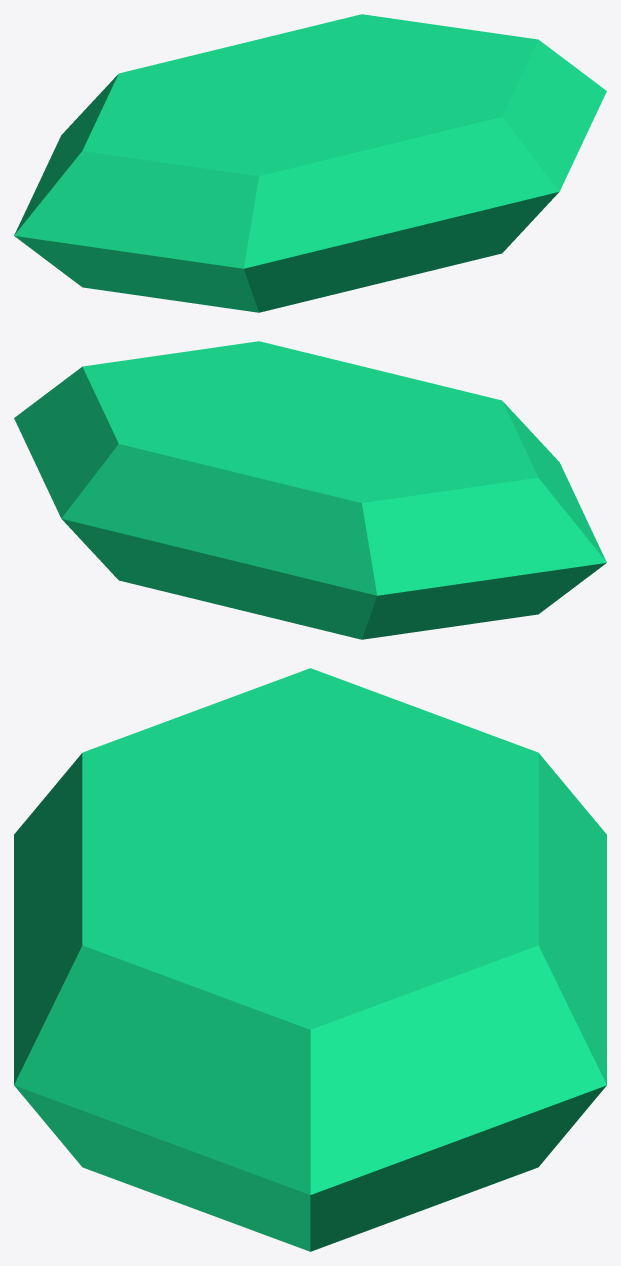
The model's file is Gem1.fbx.
The picture shows the model from 3 angles, top to bottom: view 1: azimuth 30°, elevation 25°; view 2: azimuth 150°, elevation 25°; view 3: azimuth 270°, elevation 25°; orthographic projection. The views are drawn at different scales.
Visible parts, largest first — view 1: Cube; view 2: Cube; view 3: Cube.
Boxes of the visible parts, bbox=[...] form: Cube: bbox=[14, 14, 606, 312]; Cube: bbox=[14, 341, 606, 639]; Cube: bbox=[14, 668, 606, 1251].
Bounding box in the file's own units: 293 × 64.6 × 156.
